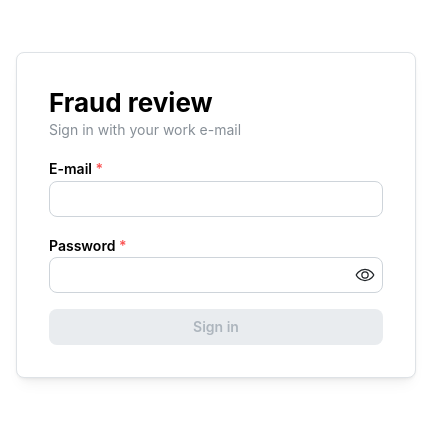
LoginPage › shows the server message on failure and stays on the page
Type "ann@example.com" into the field labelled "E-mail *" at {"x": 216, "y": 199}, box [49,181,383,217]
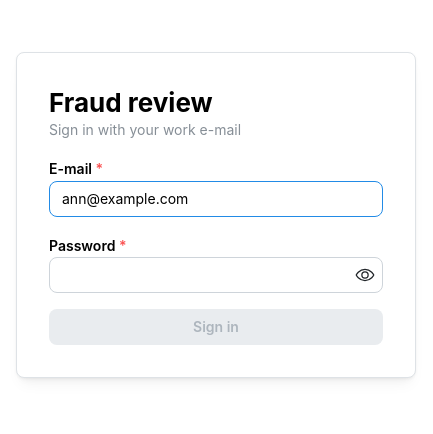
Type "wrong-password" into the password field labelled "Password *" at {"x": 216, "y": 276}, box [50,258,382,292]
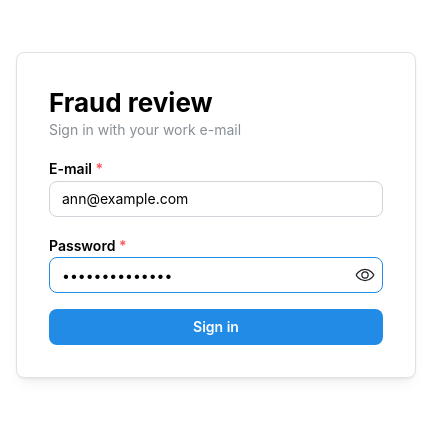
Click the button "Sign in" at {"x": 216, "y": 328}, box [49,310,383,346]
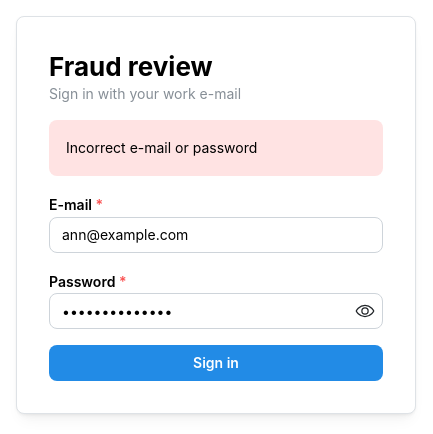
Expected: the button "Sign in" is enabled, [49,345,383,381]
Expected: the message reads "Incorrect e-mail or password", [66,139,257,156]
